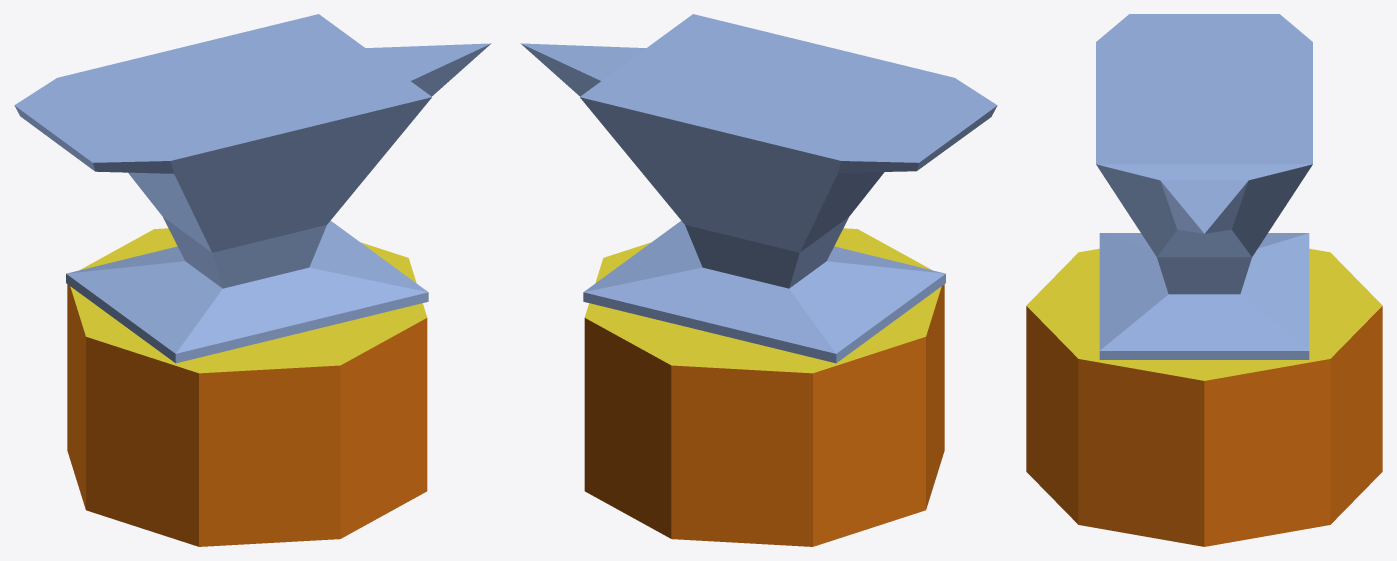
Rendered from anvil.fbx.
3 views of the same model, side by side, from view 1: azimuth 30°, elevation 25°; view 2: azimuth 150°, elevation 25°; view 3: azimuth 270°, elevation 25° (orthographic). The views are drawn at different scales.
Parts seen in each view (by area): view 1: Anvil, Wood; view 2: Anvil, Wood; view 3: Wood, Anvil.
Part boxes in pixels (left/top/right/bottom): Anvil: left=14, top=14, right=491, bottom=363; Wood: left=67, top=228, right=427, bottom=546; Anvil: left=520, top=14, right=997, bottom=363; Wood: left=584, top=228, right=944, bottom=546; Wood: left=1026, top=248, right=1382, bottom=546; Anvil: left=1096, top=14, right=1312, bottom=359.
Bounding box in the file's own units: 319 × 267 × 235.
